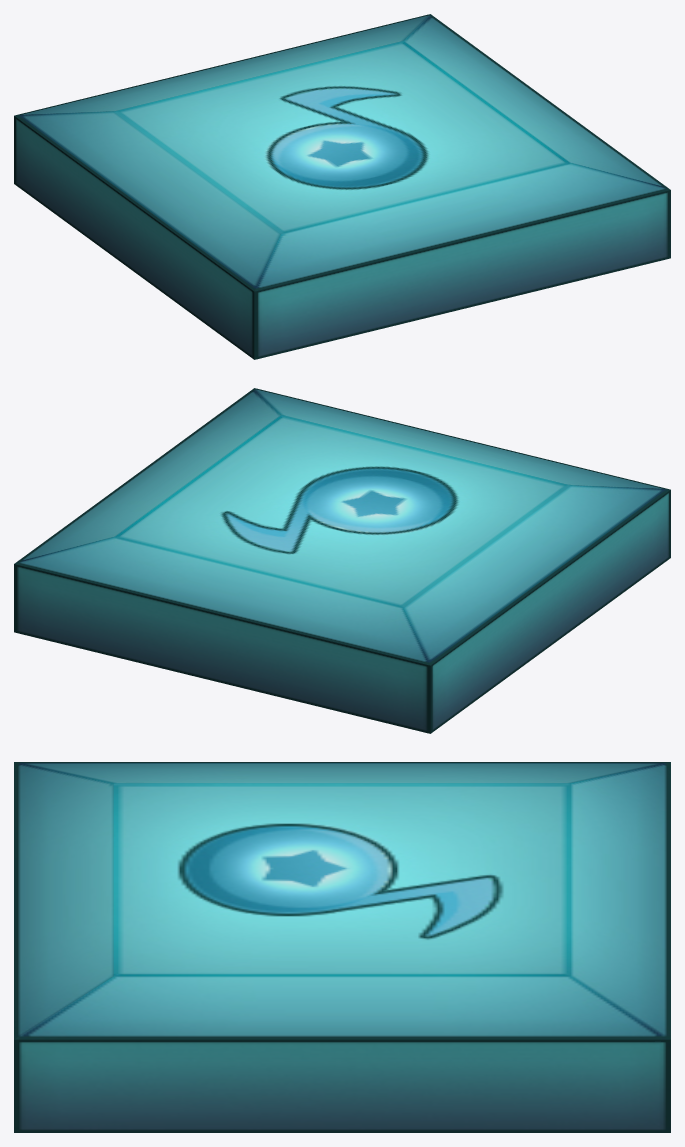
The model's file is GridNote.fbx.
The picture shows the model from 3 angles, top to bottom: view 1: azimuth 30°, elevation 25°; view 2: azimuth 150°, elevation 25°; view 3: azimuth 270°, elevation 25°; orthographic projection. The views are drawn at different scales.
Visible parts, largest first — view 1: GridNote; view 2: GridNote; view 3: GridNote.
Boxes of the visible parts, x1=… form: GridNote: x1=14, y1=14, x2=670, y2=359; GridNote: x1=14, y1=388, x2=670, y2=733; GridNote: x1=14, y1=762, x2=670, y2=1132.
Size of the model in its own units: 5 by 0.9592 by 5.
